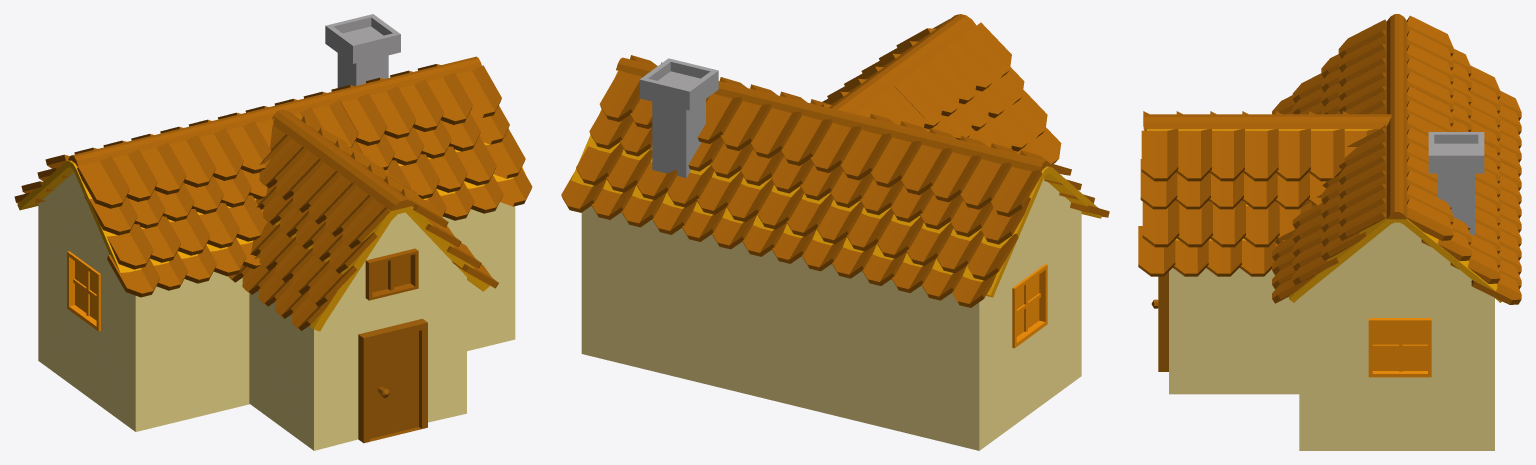
Rendered from village House 5.glb.
The picture shows the model from 3 angles, left to right: view 1: azimuth 30°, elevation 25°; view 2: azimuth 150°, elevation 25°; view 3: azimuth 270°, elevation 25°; orthographic projection. The views are drawn at different scales.
Parts seen in each view (by area): view 1: Cube.005; view 2: Cube.005; view 3: Cube.005.
Part boxes in pixels (x1=…): Cube.005: x1=14, y1=14, x2=532, y2=450; Cube.005: x1=561, y1=14, x2=1109, y2=450; Cube.005: x1=1138, y1=14, x2=1521, y2=450.
Bounding box in the file's own units: 7.25 × 4.59 × 5.88.
